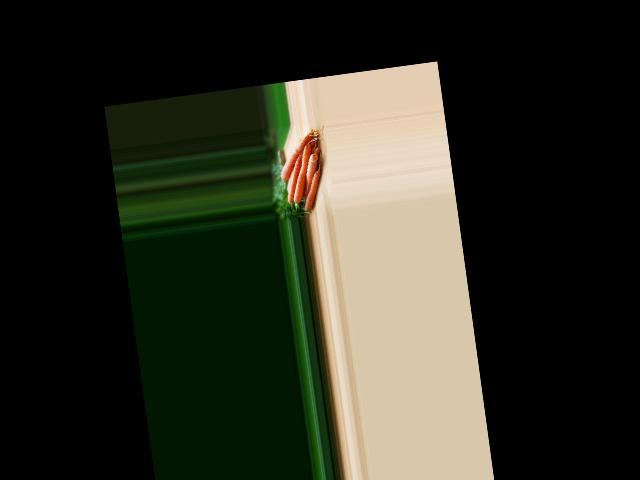carrot: (300, 165, 332, 213)
